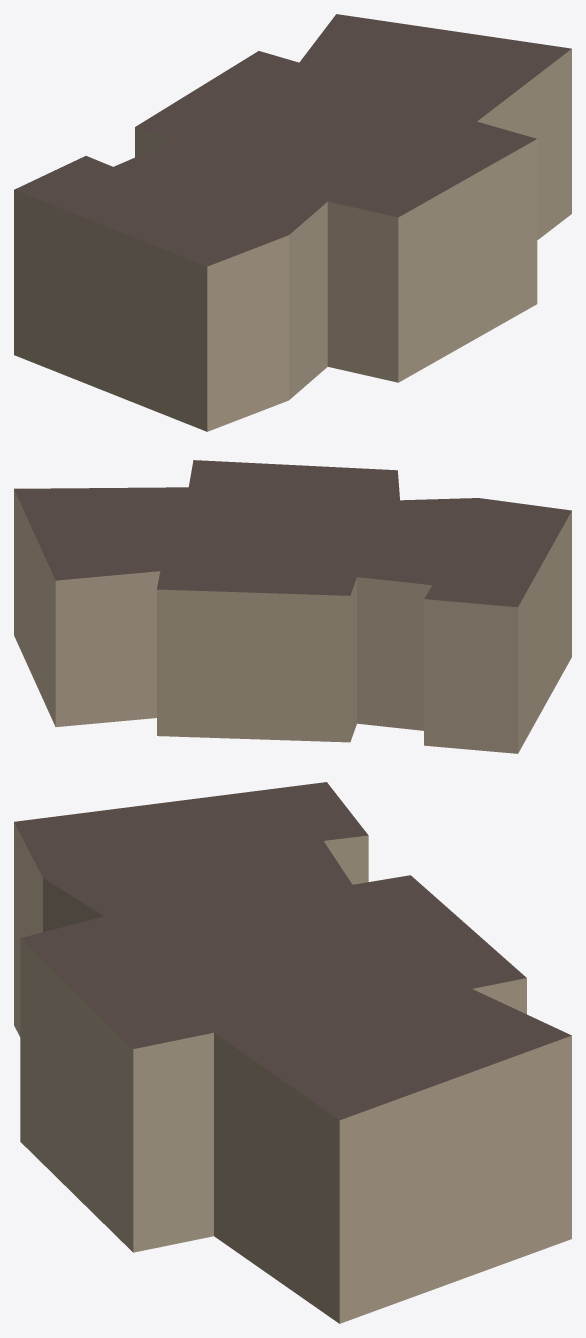
3 views of the same model, one above another, from view 1: azimuth 30°, elevation 25°; view 2: azimuth 150°, elevation 25°; view 3: azimuth 270°, elevation 25° (orthographic). The views are drawn at different scales.
Parts seen in each view (by area): view 1: HP-w293024004; view 2: HP-w293024004; view 3: HP-w293024004.
Part boxes in pixels (x1,y1,x2,y2): HP-w293024004: [14, 14, 571, 431]; HP-w293024004: [14, 460, 571, 753]; HP-w293024004: [14, 782, 571, 1323].
Size of the model in its own units: 32.09 by 9 by 22.36.
